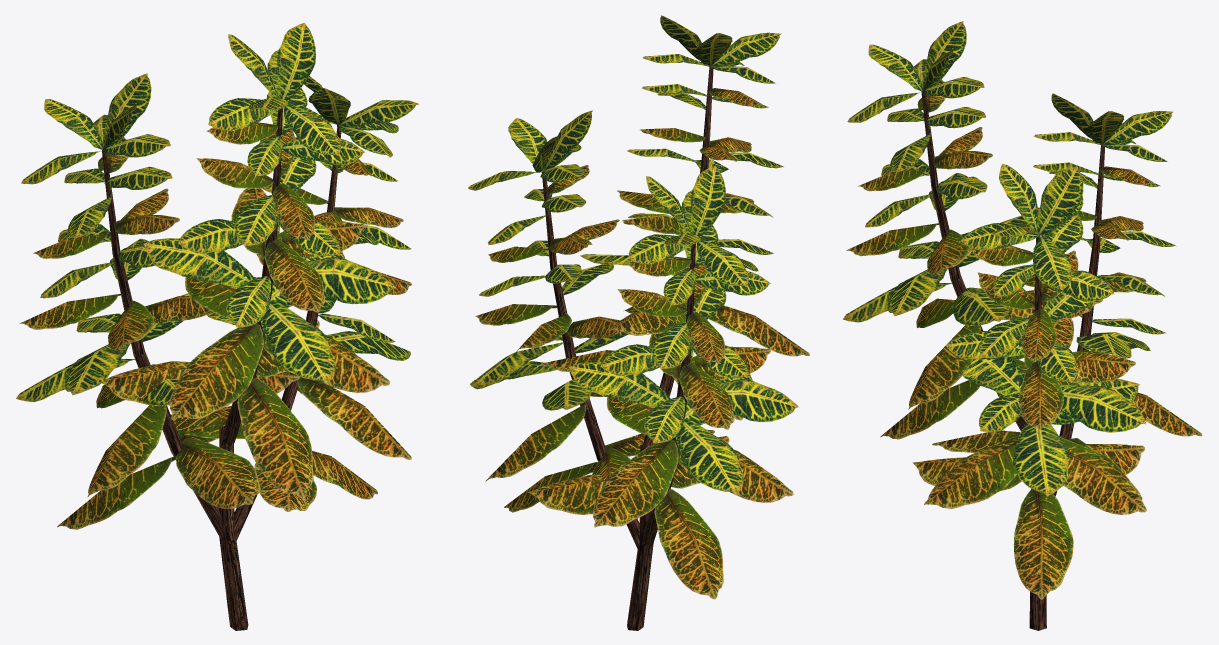
File: plant12.FBX
The picture shows the model from 3 angles, left to right: view 1: azimuth 30°, elevation 25°; view 2: azimuth 150°, elevation 25°; view 3: azimuth 270°, elevation 25°; orthographic projection. The views are drawn at different scales.
Parts seen in each view (by area): view 1: plant12; view 2: plant12; view 3: plant12.
Boxes of the visible parts, x1,y1,x2,y2 form: plant12: (16, 23, 418, 630); plant12: (468, 15, 809, 630); plant12: (843, 21, 1202, 630).
Size of the model in its own units: 3.3 by 5.55 by 3.12.
